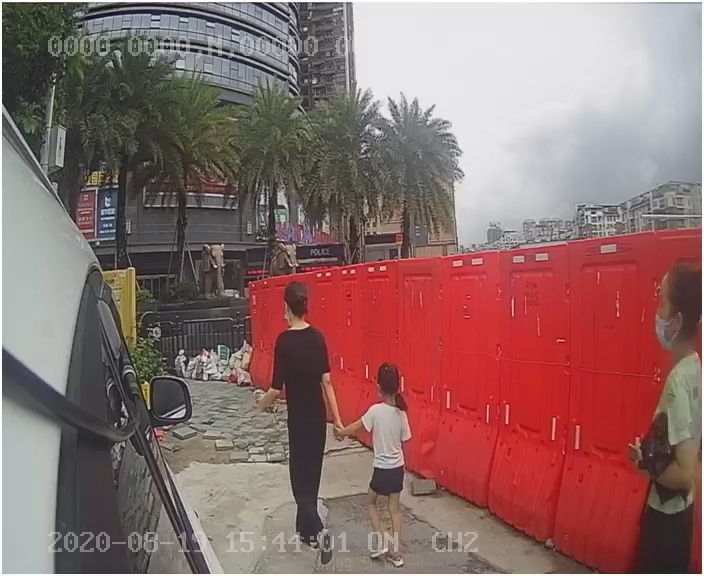person: (253, 281, 351, 536), (331, 361, 421, 566)
